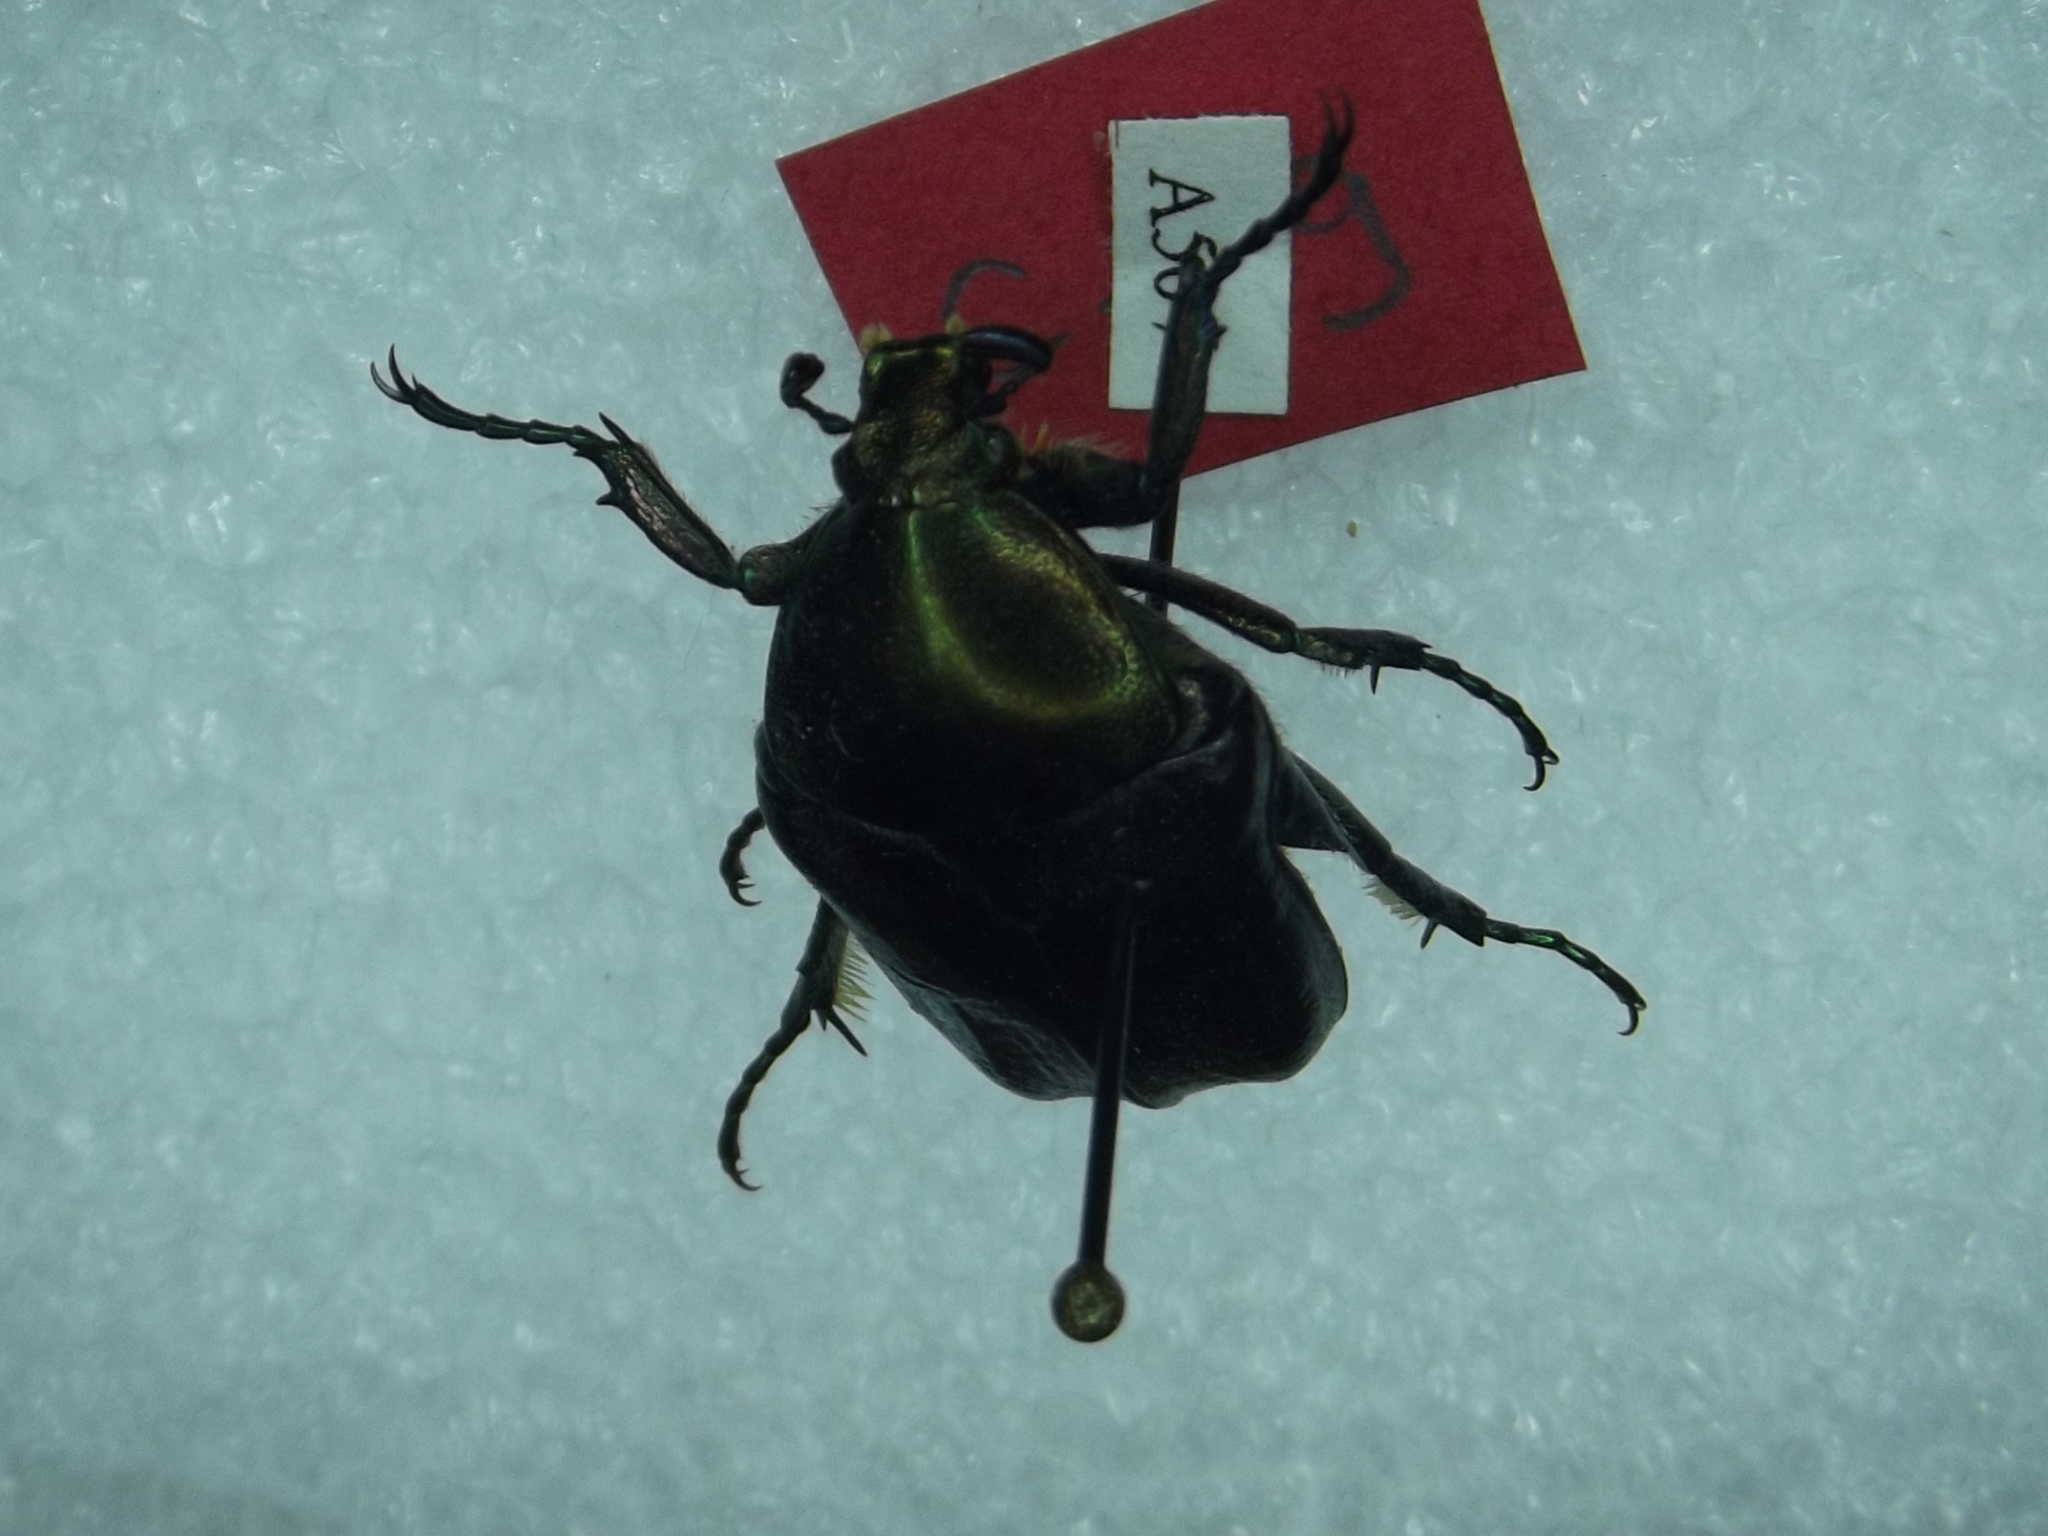Protaetia_besucheti: (324, 53, 1667, 1200)
